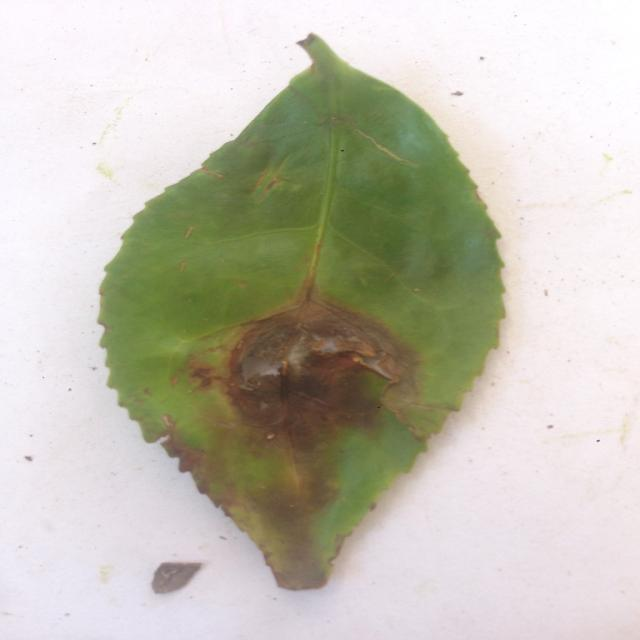Brown Blight: (101, 36, 513, 590)
